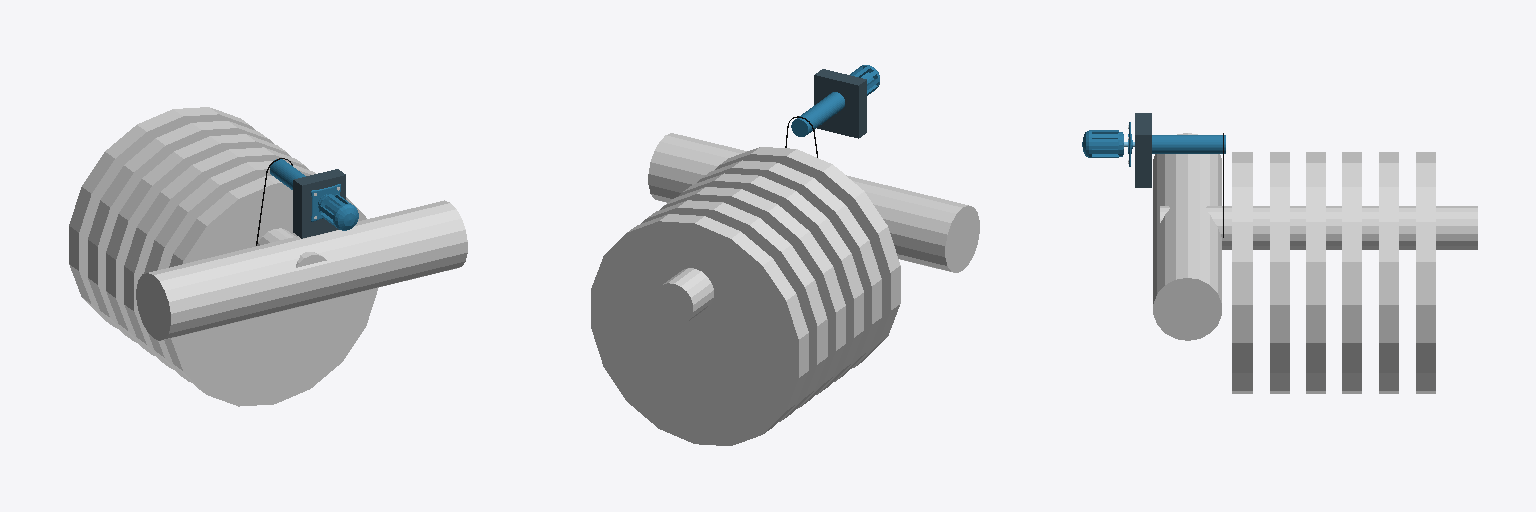
File: rotary_table.obj
The picture shows the model from 3 angles: view 1: azimuth 30°, elevation 25°; view 2: azimuth 150°, elevation 25°; view 3: azimuth 270°, elevation 25°; orthographic projection.
Visible parts, largest first — view 1: __, __.13, __.8, __.10, __.9, __.11, __.12, ___.4, __.14, __.1; view 2: __.8, __, __.9, __.13, __.10, __.11, __.12, ___.4, __.14, __.1; view 3: __, __.14, __.13, __.12, __.11, __.10, __.9, __.8, __.1, ___.4, __.4.
Part boxes in pixels (bbox=[...]): __: bbox=[136, 194, 467, 340]; __.13: bbox=[164, 176, 377, 406]; __.8: bbox=[69, 107, 255, 328]; __.10: bbox=[106, 134, 290, 355]; __.9: bbox=[88, 121, 273, 342]; __.11: bbox=[124, 147, 308, 369]; __.12: bbox=[144, 161, 315, 382]; ___.4: bbox=[293, 169, 345, 238]; __.14: bbox=[257, 228, 326, 267]; __.1: bbox=[270, 159, 339, 218]; __.8: bbox=[591, 214, 808, 445]; __: bbox=[648, 65, 979, 272]; __.9: bbox=[641, 200, 827, 421]; __.13: bbox=[715, 147, 900, 368]; __.10: bbox=[660, 187, 845, 408]; __.11: bbox=[678, 173, 863, 394]; __.12: bbox=[697, 160, 881, 381]; ___.4: bbox=[814, 69, 866, 138]; __.14: bbox=[655, 171, 842, 324]; __.1: bbox=[791, 92, 844, 136]; __: bbox=[1082, 130, 1221, 340]; __.14: bbox=[1160, 206, 1477, 249]; __.13: bbox=[1232, 152, 1252, 393]; __.12: bbox=[1270, 152, 1289, 393]; __.11: bbox=[1306, 152, 1325, 393]; __.10: bbox=[1342, 152, 1361, 393]; __.9: bbox=[1379, 152, 1398, 393]; __.8: bbox=[1416, 152, 1435, 393]; __.1: bbox=[1128, 125, 1225, 163]; ___.4: bbox=[1135, 113, 1151, 187]; __.4: bbox=[1092, 130, 1118, 157].
Size of the model in its own units: 2685 by 2244 by 3097.